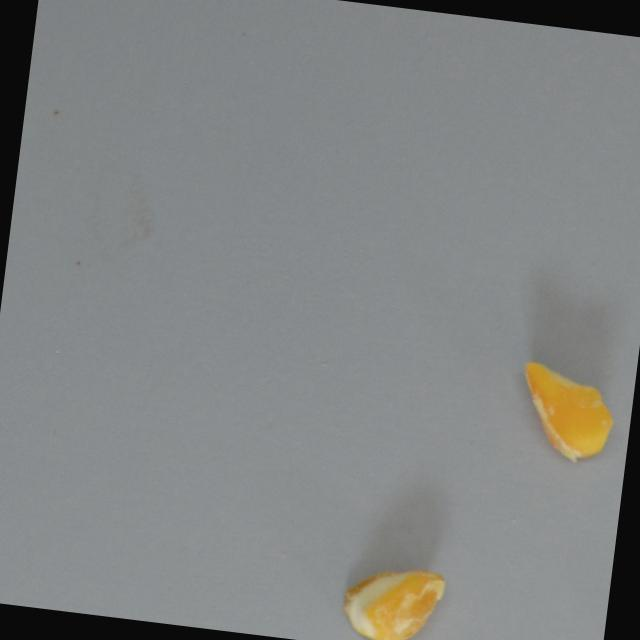pelicula: (509, 359, 621, 465), (335, 557, 447, 640)
